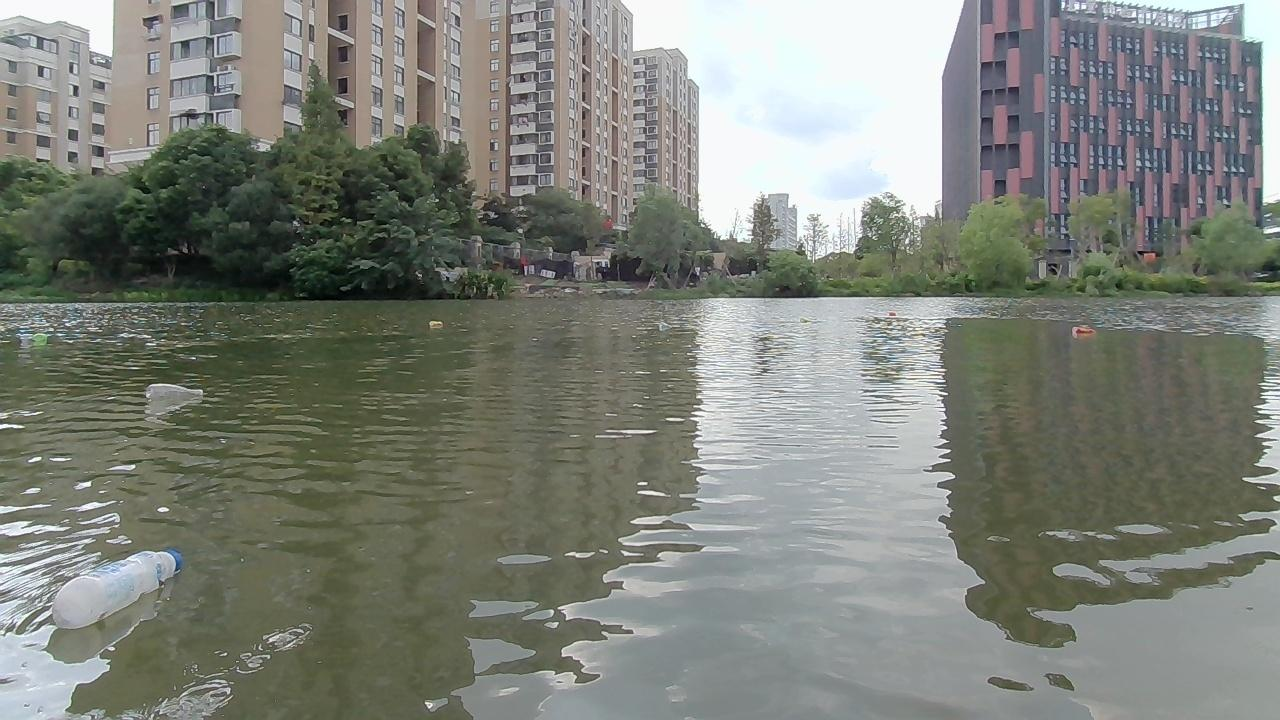bottle: (48, 541, 180, 630), (142, 380, 206, 403), (1071, 323, 1095, 337), (35, 331, 53, 346), (424, 317, 448, 327)
